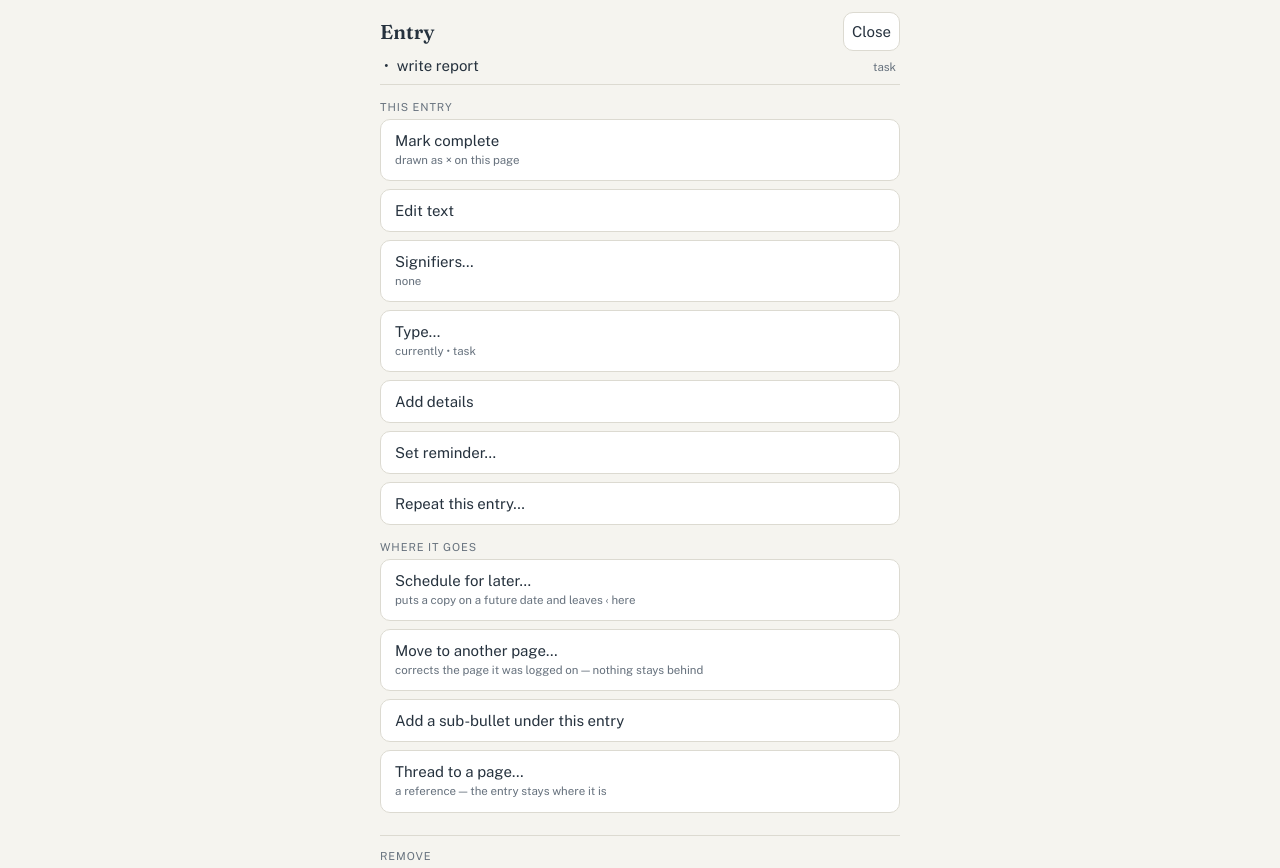
Test: thread picker sub-view › choosing a page references it and returns to the actions list
Click the button "Thread to a page… a reference — the entry stays where it is".
click(459, 772)  # box [380, 750, 900, 813]
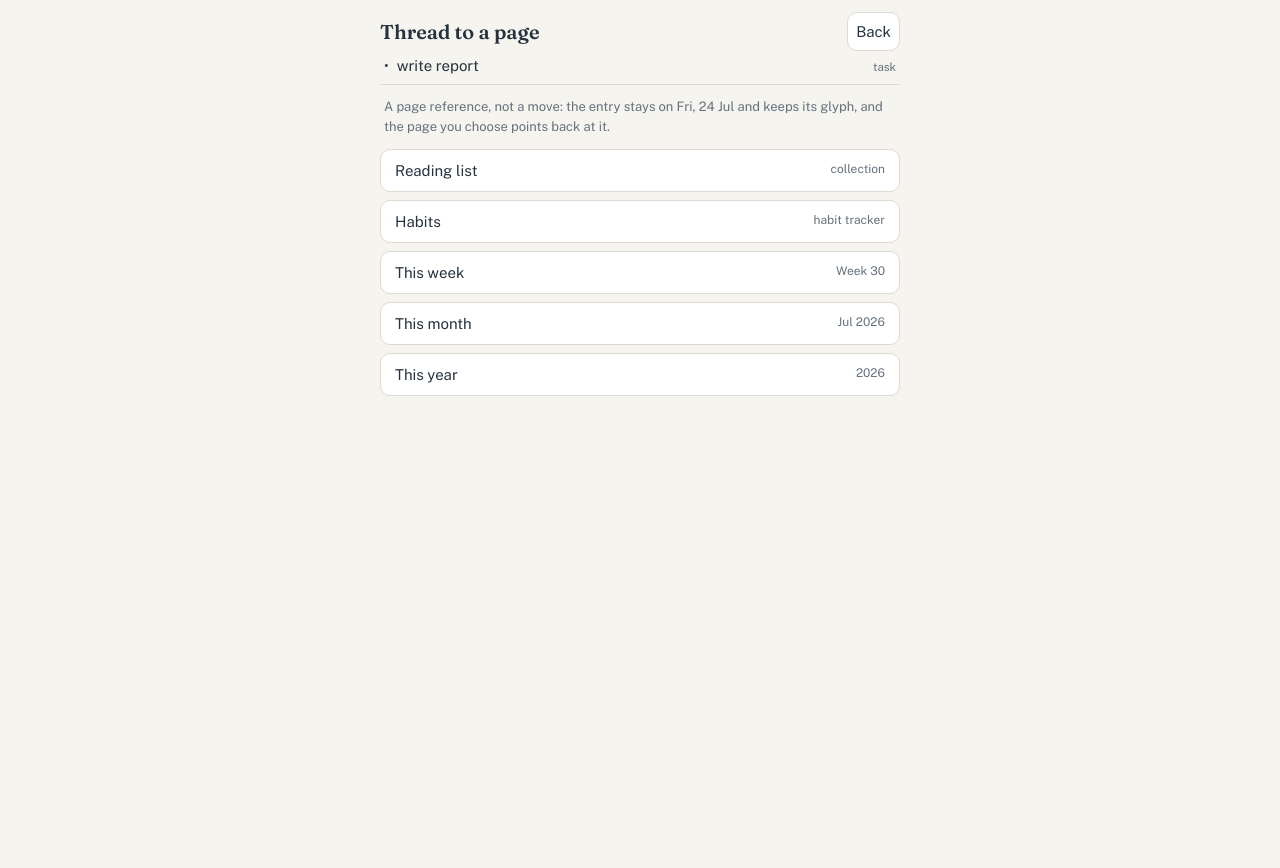
Click the button with aria-label "Thread to Reading list".
click(436, 171)  # box [380, 149, 900, 192]
(page scrolled)
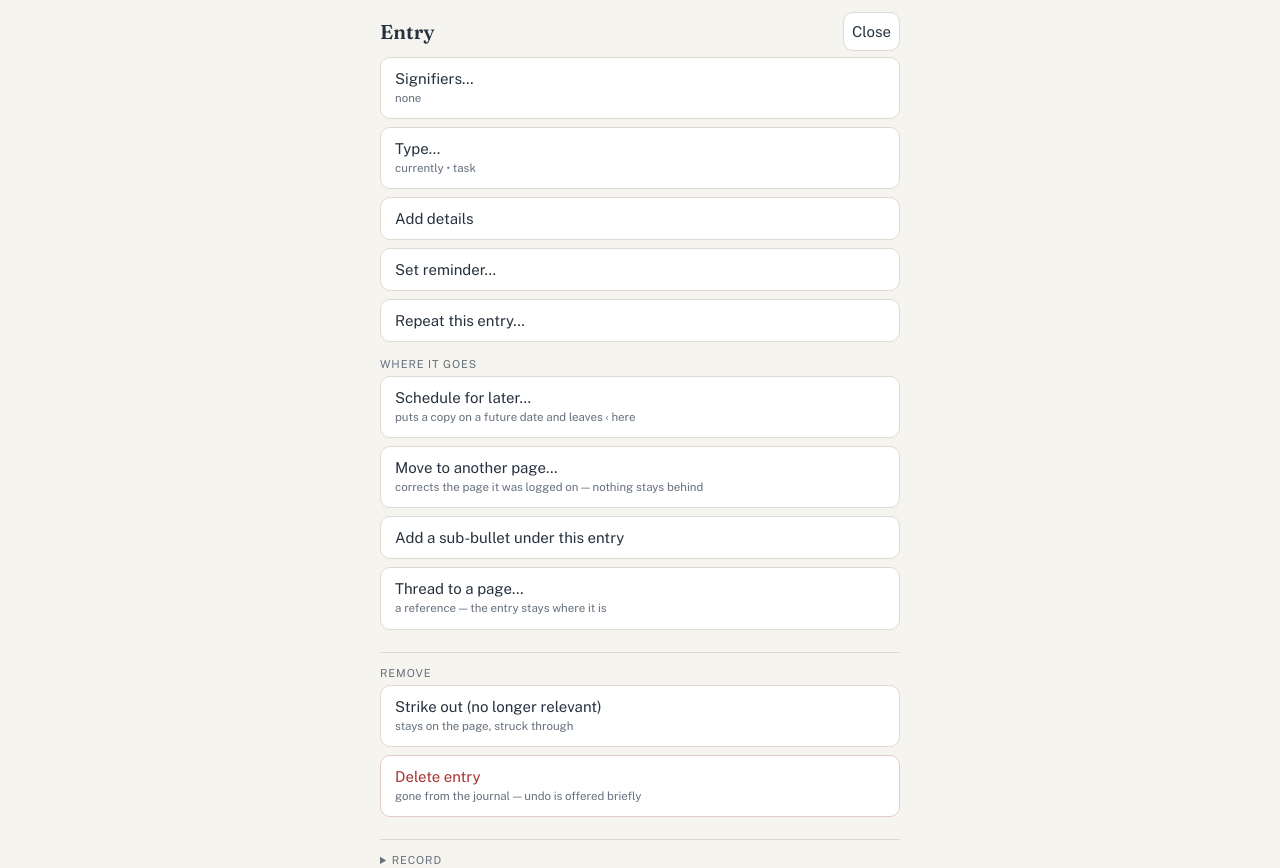
Check: the button "Delete entry" is shown, box [380, 755, 900, 817]
